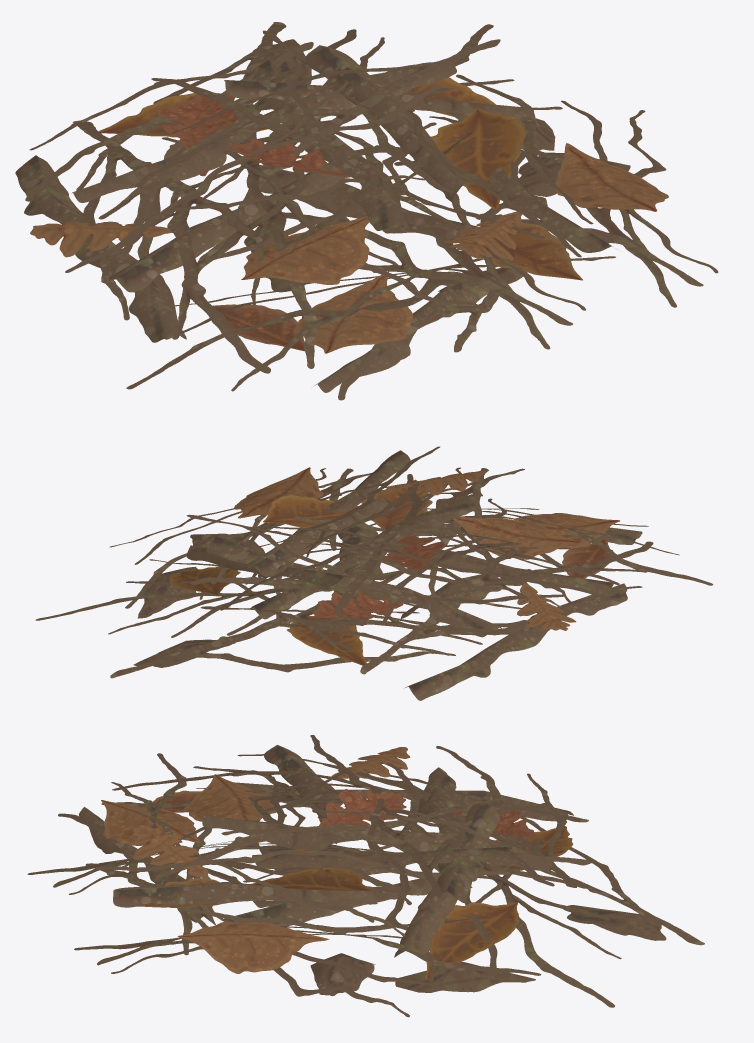
The model's file is MSH_fwOF_WoodDebris_06.fbx.
3 renders of one model, top to bottom at view 1: azimuth 30°, elevation 25°; view 2: azimuth 150°, elevation 25°; view 3: azimuth 270°, elevation 25°, orthographic. The views are drawn at different scales.
Parts seen in each view (by area): view 1: MSH_fwOF_WoodDebris_06; view 2: MSH_fwOF_WoodDebris_06; view 3: MSH_fwOF_WoodDebris_06.
Part boxes in pixels (left/top/right/bottom): MSH_fwOF_WoodDebris_06: left=15, top=22, right=718, bottom=400; MSH_fwOF_WoodDebris_06: left=35, top=446, right=713, bottom=700; MSH_fwOF_WoodDebris_06: left=27, top=735, right=704, bottom=1017.
Size of the model in its own units: 0.8443 by 0.1133 by 0.9046.
